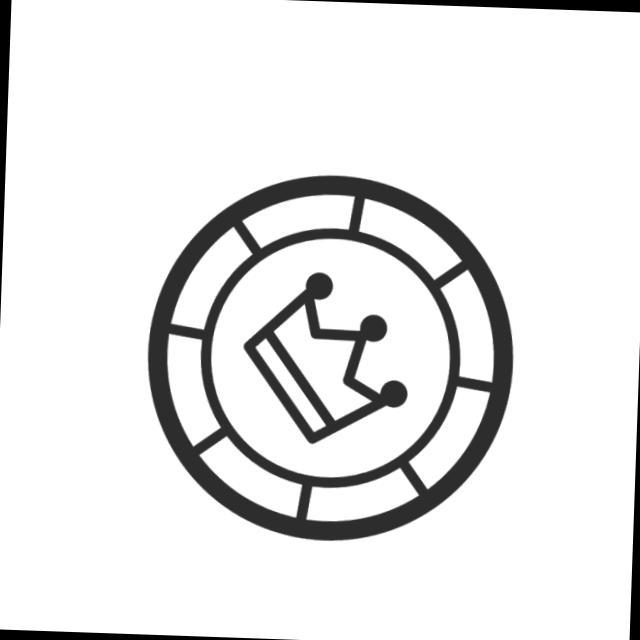coin: (136, 162, 530, 553)
